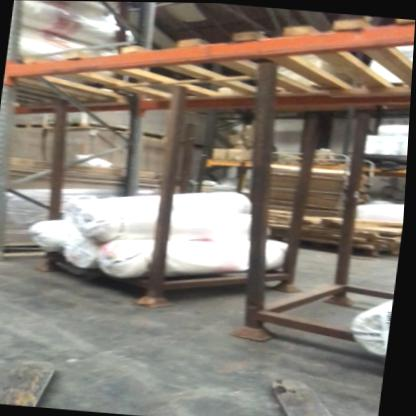vertical_damage: (1, 242, 15, 270)
